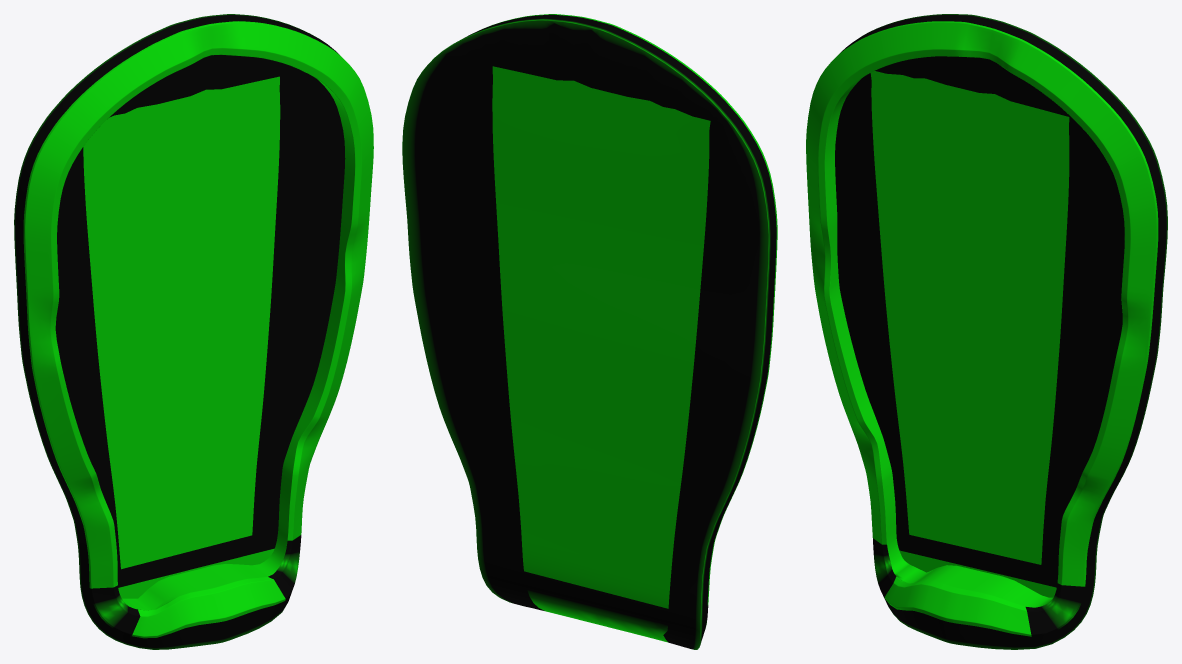
3 renders of one model, left to right at view 1: azimuth 30°, elevation 25°; view 2: azimuth 150°, elevation 25°; view 3: azimuth 330°, elevation 25°, orthographic. The views are drawn at different scales.
Parts seen in each view (by area): view 1: Base1; view 2: Base1; view 3: Base1.
Part boxes in pixels (x1,y1,x2,y2): Base1: [14, 14, 373, 649]; Base1: [402, 14, 777, 649]; Base1: [806, 14, 1167, 649].
Size of the model in its own units: 17.11 by 27.66 by 3.4.
